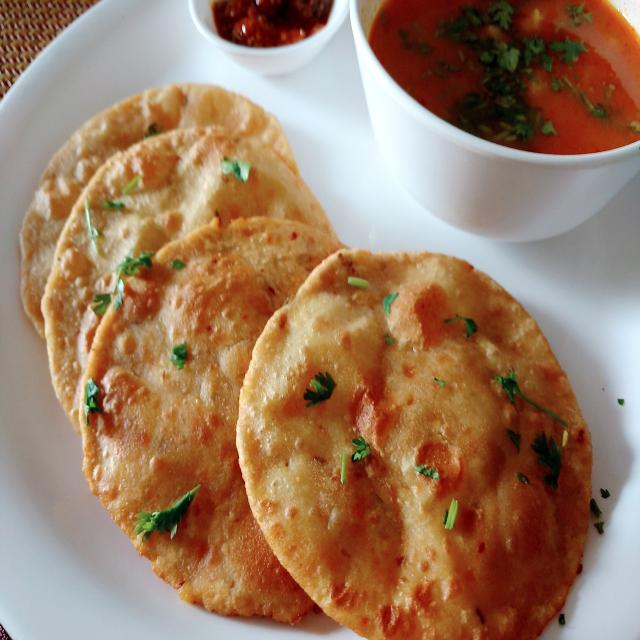puri: (1, 115, 597, 640)
